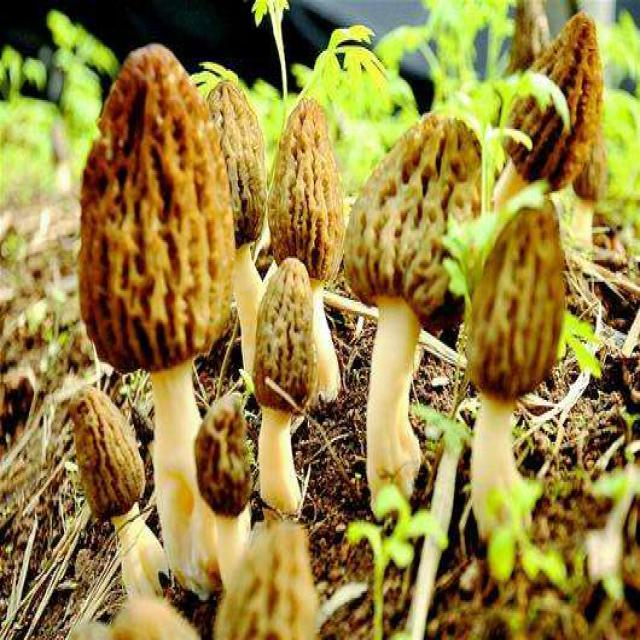Morchella esculenta: (75, 45, 233, 570), (345, 118, 481, 507), (461, 200, 565, 533), (273, 97, 347, 405), (497, 12, 602, 207), (210, 79, 269, 388), (76, 388, 167, 587), (256, 256, 315, 513), (196, 391, 253, 586)
